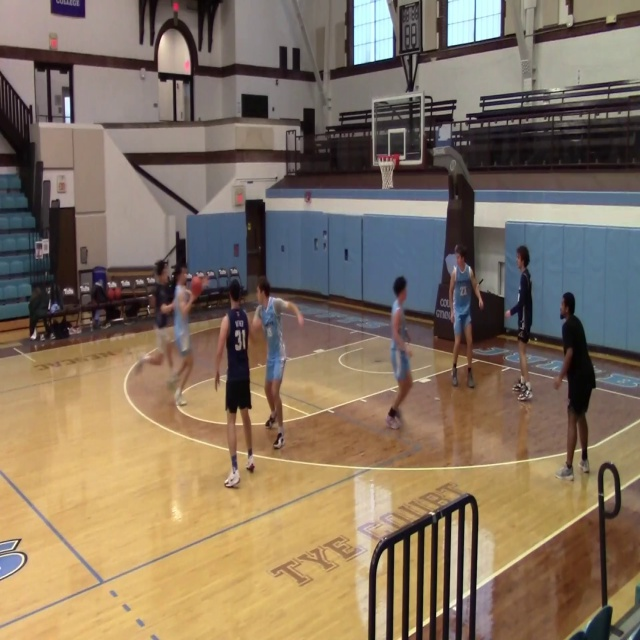Basketball: (190, 275, 206, 297)
